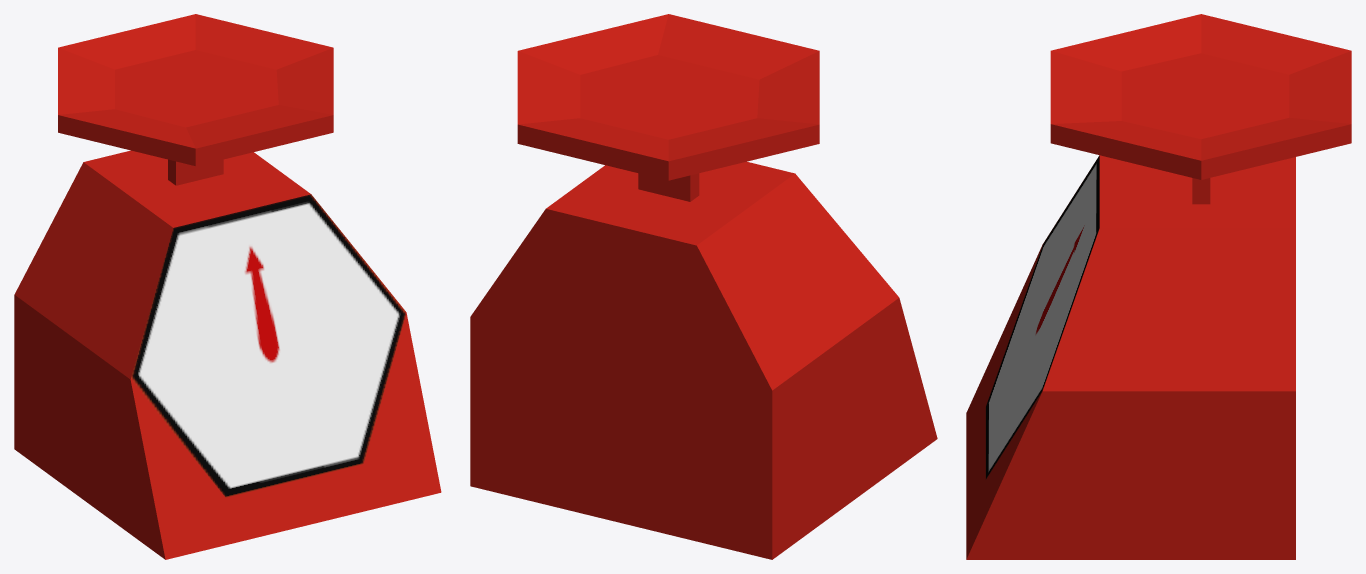
The model's file is scale3_PLY.fbx.
3 renders of one model, left to right at view 1: azimuth 30°, elevation 25°; view 2: azimuth 150°, elevation 25°; view 3: azimuth 270°, elevation 25°, orthographic. The views are drawn at different scales.
Parts seen in each view (by area): view 1: scale3_PLY; view 2: scale3_PLY; view 3: scale3_PLY.
Part boxes in pixels (left/top/right/bottom): scale3_PLY: left=14, top=14, right=441, bottom=559; scale3_PLY: left=470, top=14, right=937, bottom=559; scale3_PLY: left=966, top=14, right=1351, bottom=559.
Bounding box in the file's own units: 1.02 × 1.29 × 1.13.
